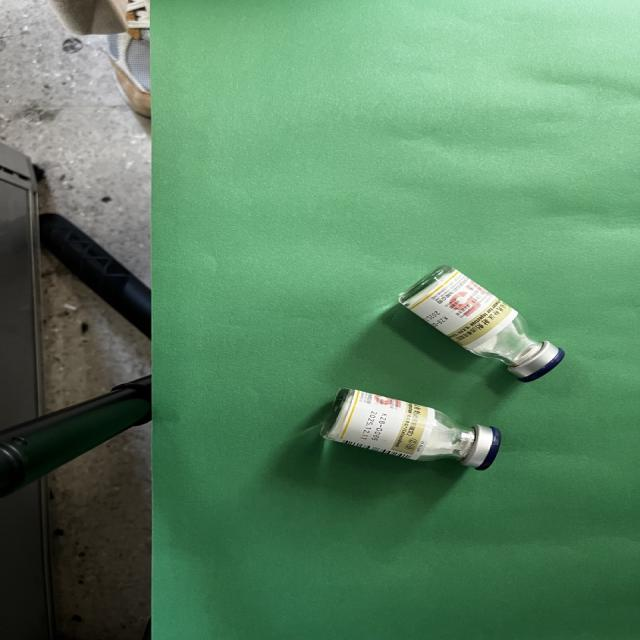Vials: (399, 266, 564, 382), (321, 388, 501, 470)
